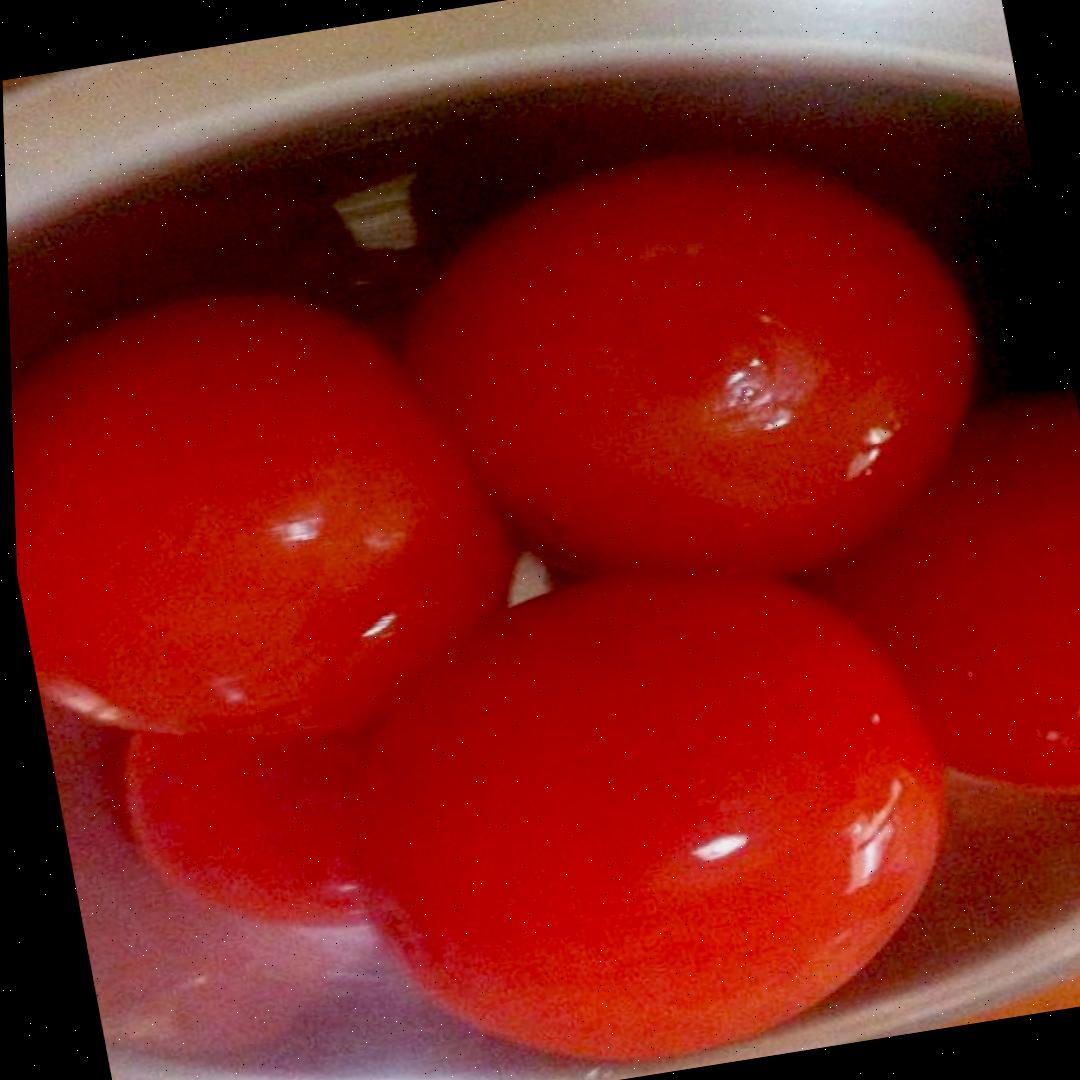matang: (318, 531, 986, 1080), (382, 119, 1009, 622), (7, 252, 552, 778)
